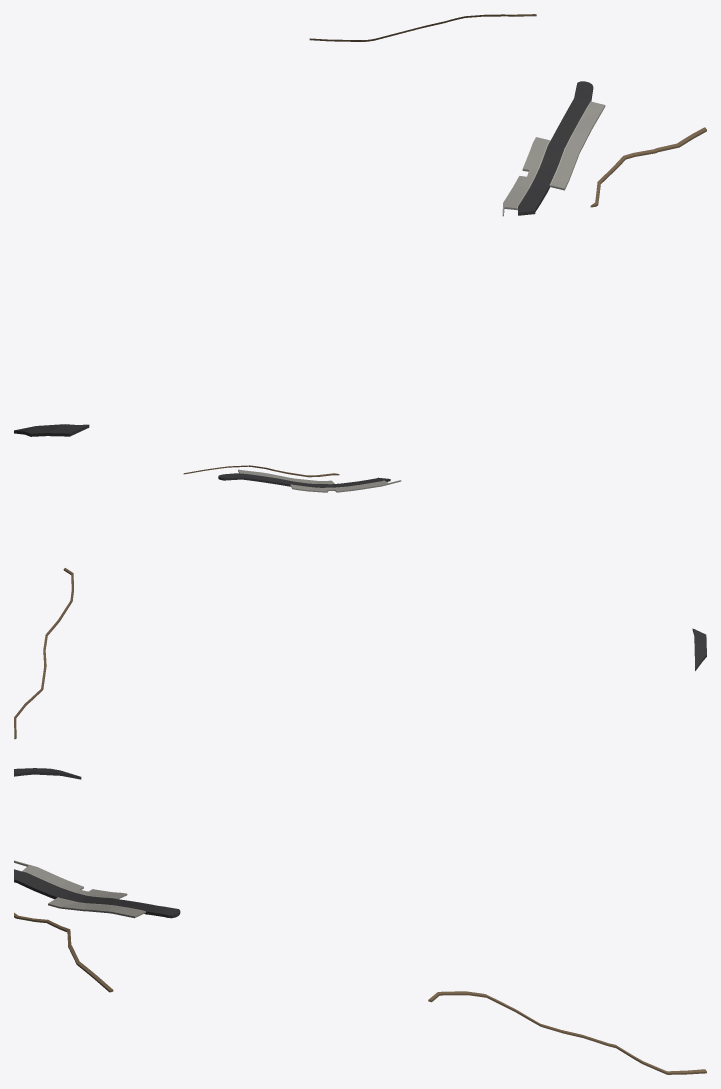
3 renders of one model, top to bottom at view 1: azimuth 30°, elevation 25°; view 2: azimuth 150°, elevation 25°; view 3: azimuth 270°, elevation 25°, orthographic. The views are drawn at different scales.
Bounding box in the file's own units: 293 × 66.44 × 265.
